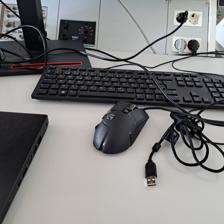mouse: (91, 101, 149, 155)
